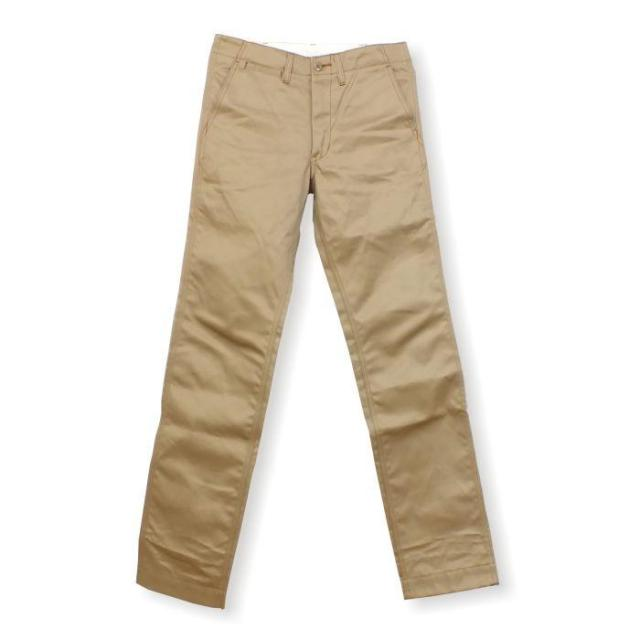long-pants: (134, 33, 502, 613)
